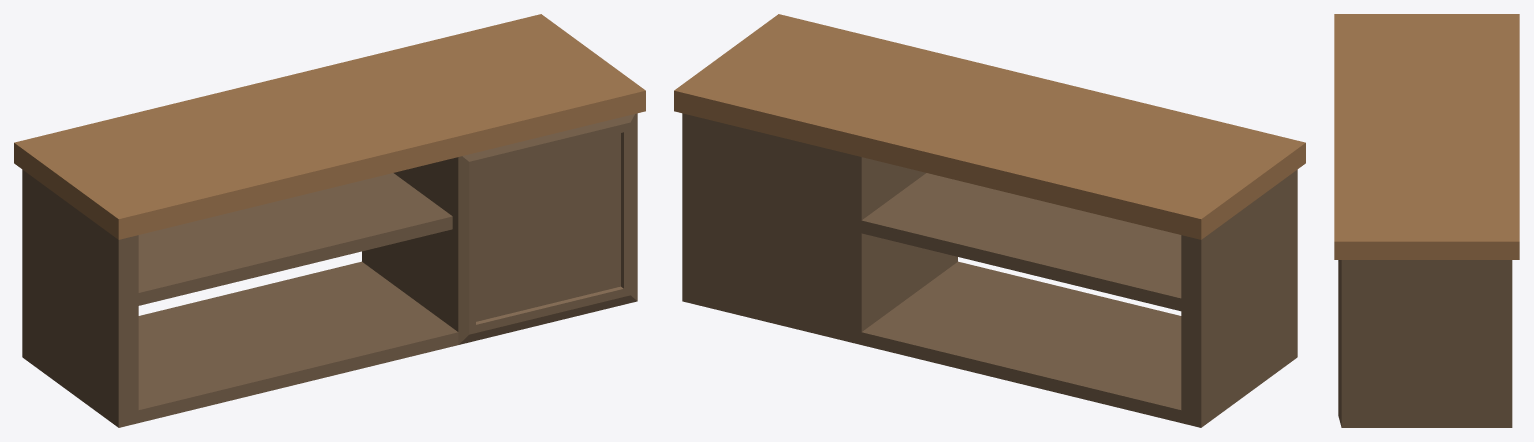
File: Table_5B.fbx
The picture shows the model from 3 angles, left to right: view 1: azimuth 30°, elevation 25°; view 2: azimuth 150°, elevation 25°; view 3: azimuth 270°, elevation 25°; orthographic projection. The views are drawn at different scales.
Visible parts, largest first — view 1: polySurface2111; view 2: polySurface2111; view 3: polySurface2111.
Part boxes in pixels (x1,y1,x2,y2): polySurface2111: [14, 14, 645, 427]; polySurface2111: [674, 14, 1305, 427]; polySurface2111: [1334, 14, 1519, 427].
Bounding box in the file's own units: 1.87 × 0.72 × 0.6422.
Materials: 1 (1 with a texture image).
